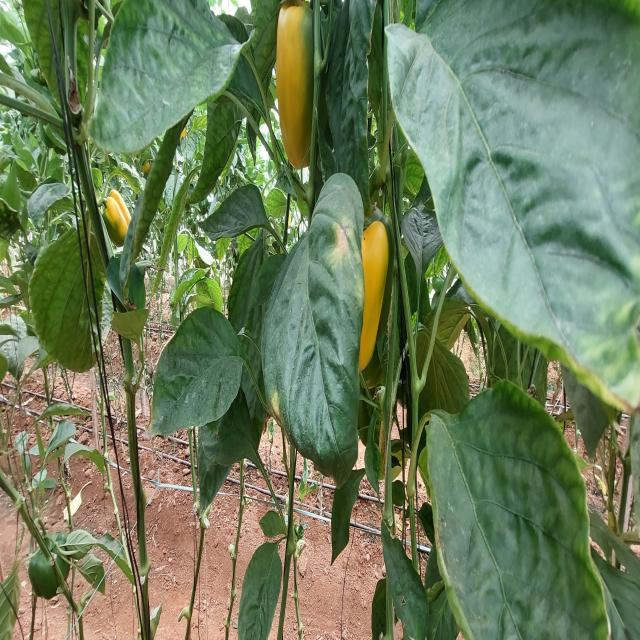GreenishYellow--Can-be-Harvested: (306, 196, 390, 397), (276, 9, 338, 179), (104, 201, 142, 274)
